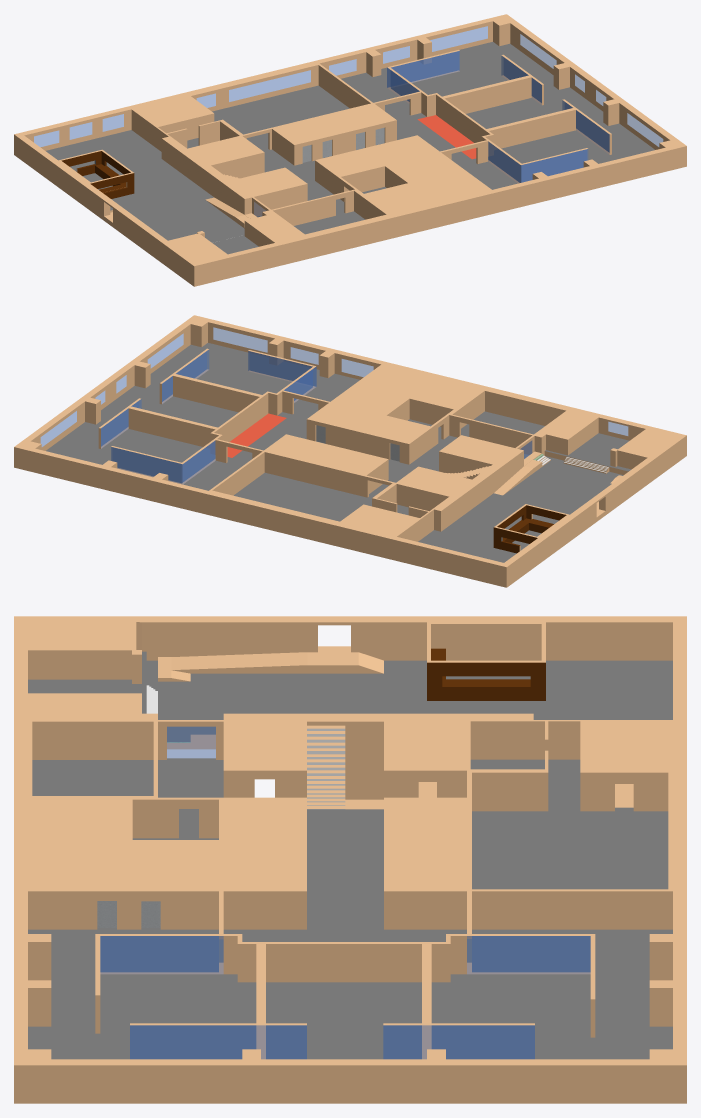
Rendered from 5F-coloredNhan.gltf.
3 views of the same model, one above another, from view 1: azimuth 30°, elevation 25°; view 2: azimuth 150°, elevation 25°; view 3: azimuth 270°, elevation 25° (orthographic). The views are drawn at different scales.
Visible parts, largest first — view 1: root; view 2: root; view 3: root.
Boxes of the visible parts, x1,y1,x2,y2 form: root: [14, 14, 686, 286]; root: [14, 315, 686, 587]; root: [14, 616, 686, 1103].
Size of the model in its own units: 58.11 by 5.2 by 36.81.
Materials: 9 (2 with a texture image).
